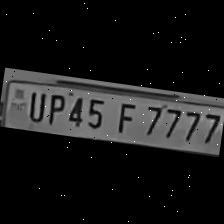4: (62, 90, 88, 128)
5: (80, 92, 108, 131)
7: (136, 99, 164, 138), (158, 102, 183, 140), (197, 109, 223, 145), (178, 108, 202, 142)
F: (110, 97, 140, 136)
P: (42, 89, 66, 126)
U: (23, 87, 48, 122)
